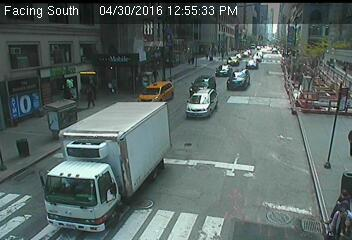neg: (48, 172, 74, 207), (181, 142, 205, 173), (235, 153, 255, 180), (125, 117, 145, 143), (300, 83, 315, 105), (282, 55, 297, 75), (312, 188, 327, 208), (24, 46, 39, 66), (196, 99, 210, 118), (20, 138, 34, 157), (49, 99, 63, 118), (234, 70, 248, 88), (135, 195, 149, 213), (117, 52, 130, 70), (316, 144, 329, 161), (228, 36, 240, 53), (278, 206, 290, 222), (64, 43, 75, 58), (277, 118, 288, 132)
pos: (79, 82, 99, 107)
